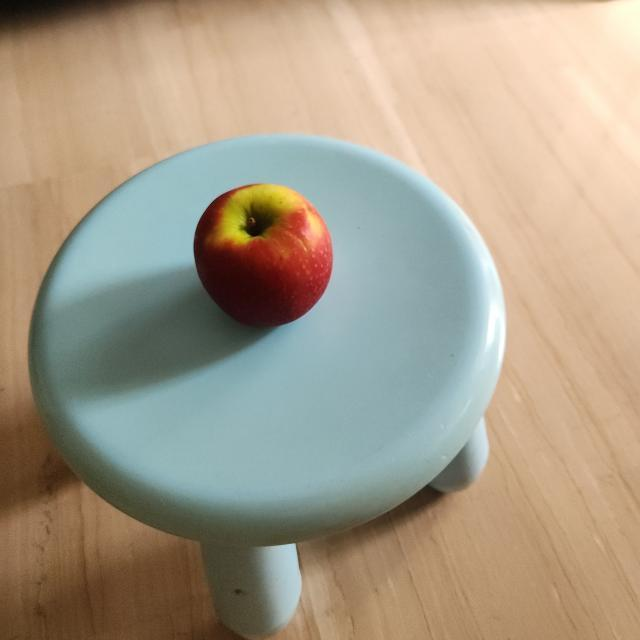apple: (195, 178, 338, 336)
